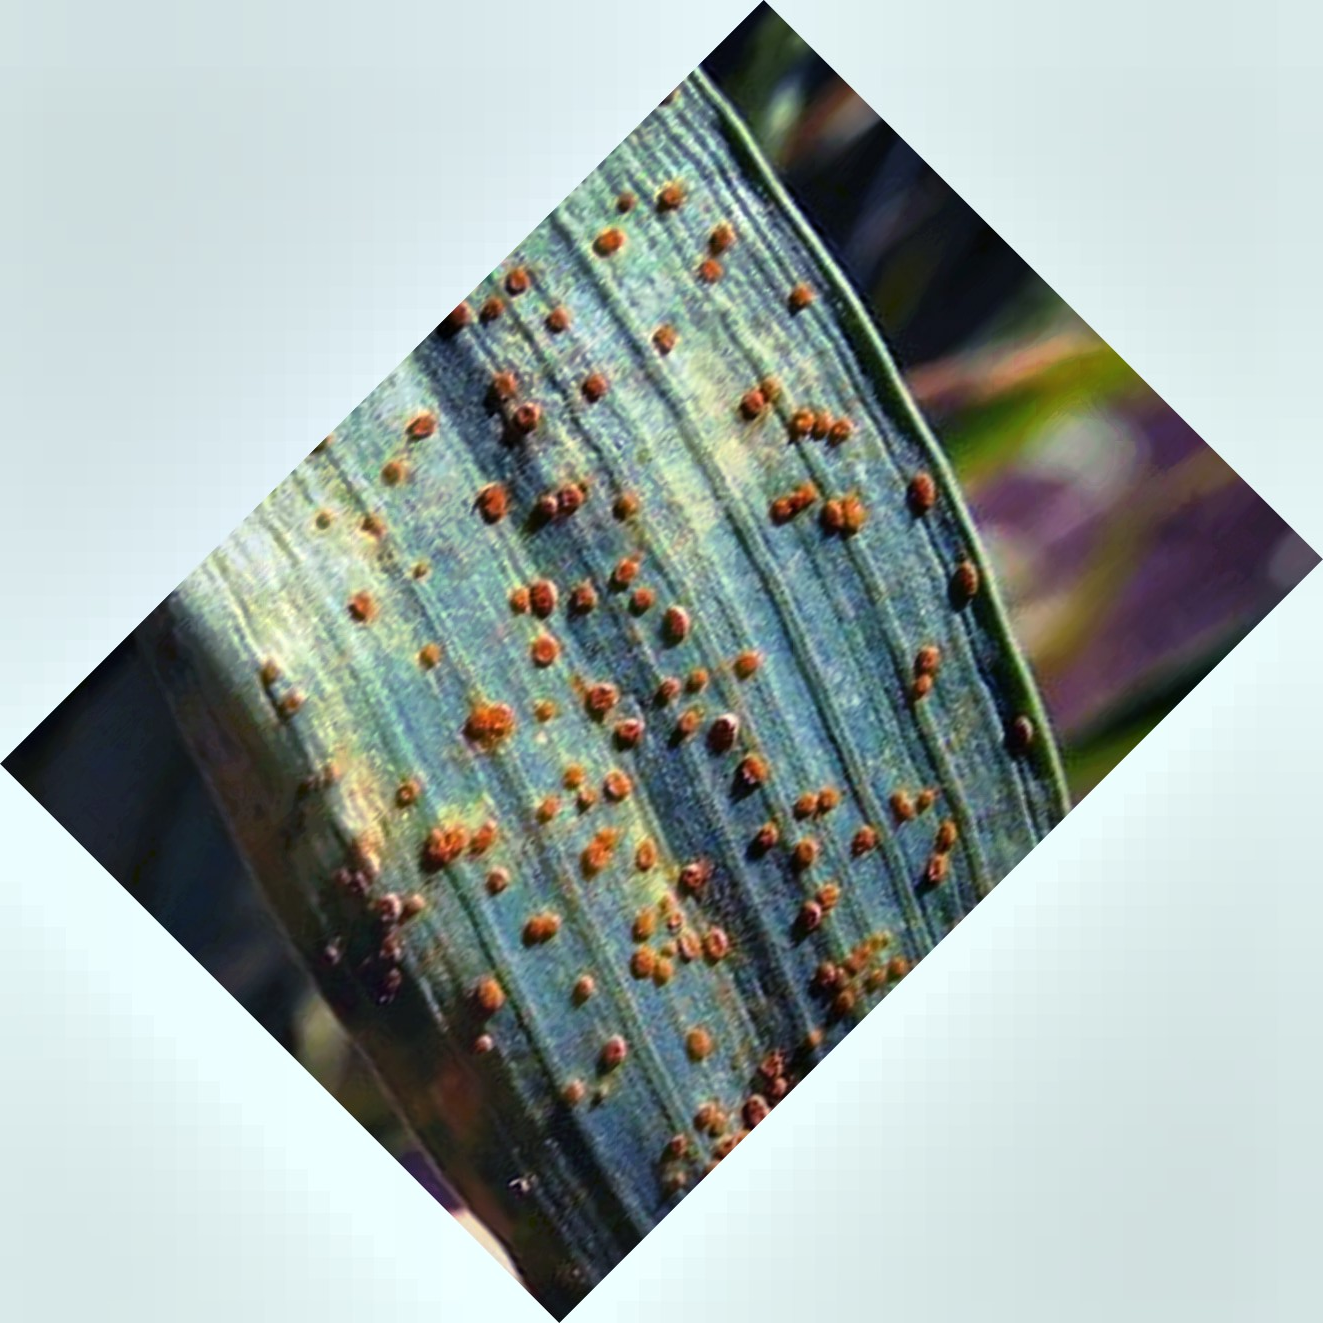Leaf Rust: (258, 271, 1038, 1136)
